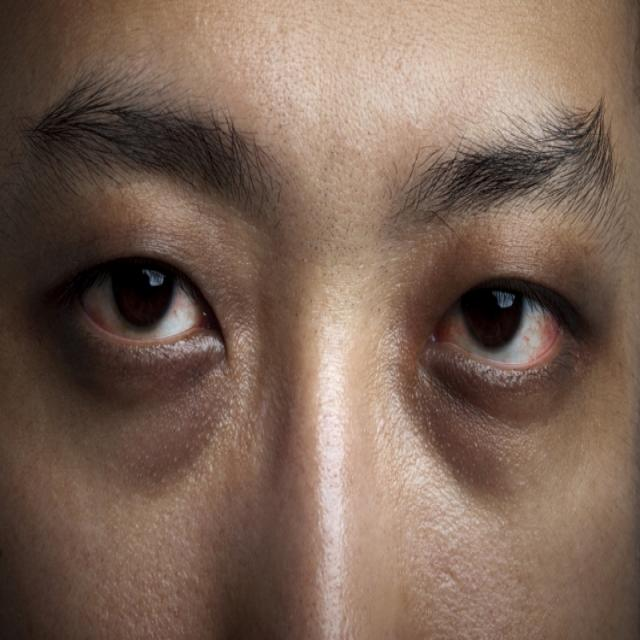Eyebags: (395, 231, 618, 506), (16, 238, 233, 501)
